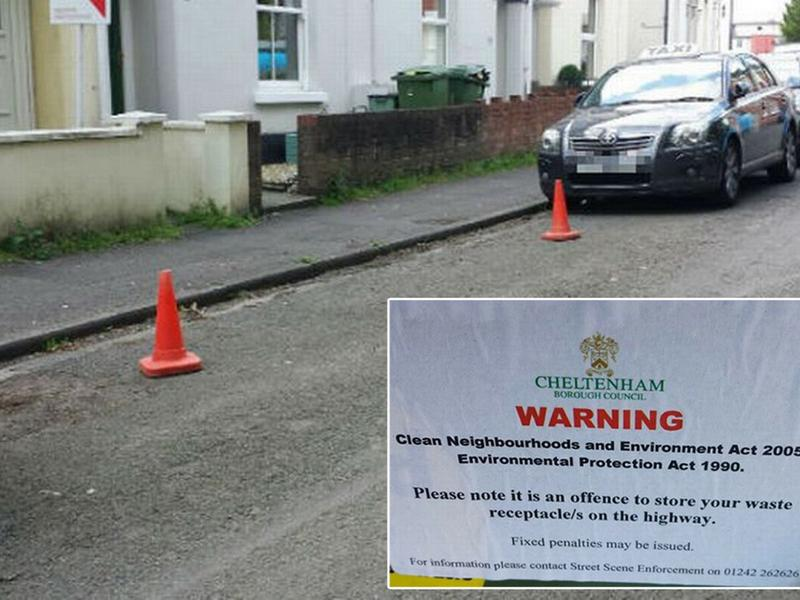Cone: (137, 268, 205, 379), (539, 179, 582, 242)
